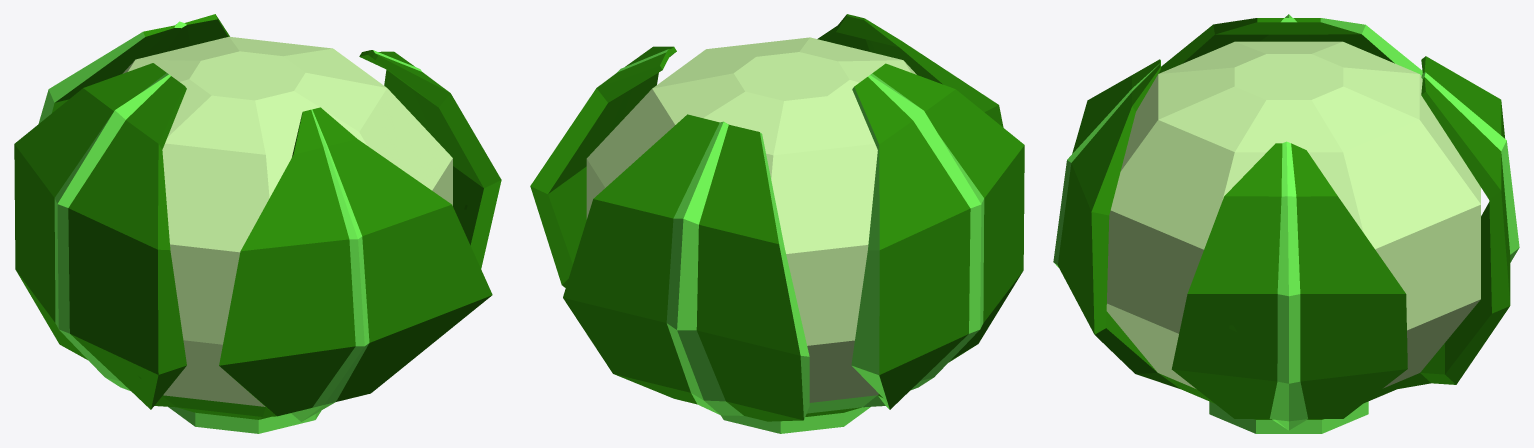
The model's file is cauliflower01.obj.
3 views of the same model, side by side, from view 1: azimuth 30°, elevation 25°; view 2: azimuth 150°, elevation 25°; view 3: azimuth 270°, elevation 25° (orthographic).
Parts seen in each view (by area): view 1: Cylinder; view 2: Cylinder; view 3: Cylinder.
Boxes of the visible parts, left/top/right/bottom form: Cylinder: left=14, top=14, right=501, bottom=433; Cylinder: left=530, top=14, right=1024, bottom=433; Cylinder: left=1053, top=14, right=1519, bottom=433.
Bounding box in the file's own units: 0.1395 × 0.1147 × 0.1409.
1 material, 1 textured.
